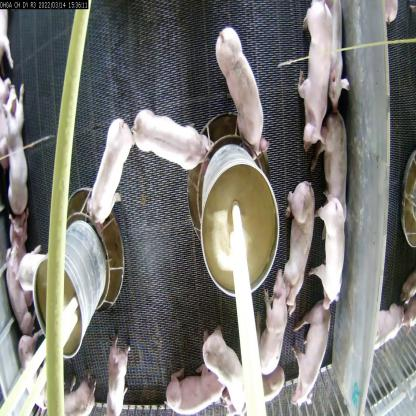Pig: (212, 16, 274, 164), (292, 0, 332, 149), (133, 105, 206, 183), (316, 199, 352, 309), (168, 356, 234, 416), (252, 274, 292, 372), (296, 305, 331, 415), (91, 116, 128, 220), (202, 324, 244, 412), (318, 108, 350, 220), (282, 186, 312, 304), (0, 93, 26, 205), (4, 242, 34, 333), (99, 340, 130, 416)
